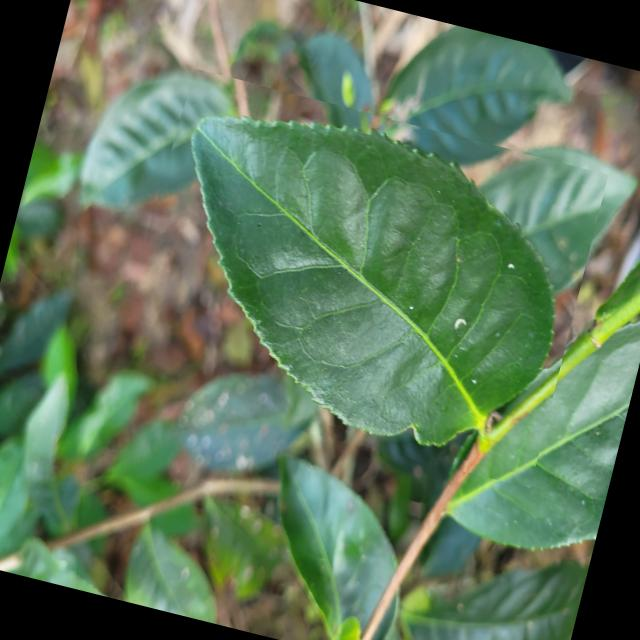Category D(7+ days, Not for Tea): (104, 64, 609, 487)
